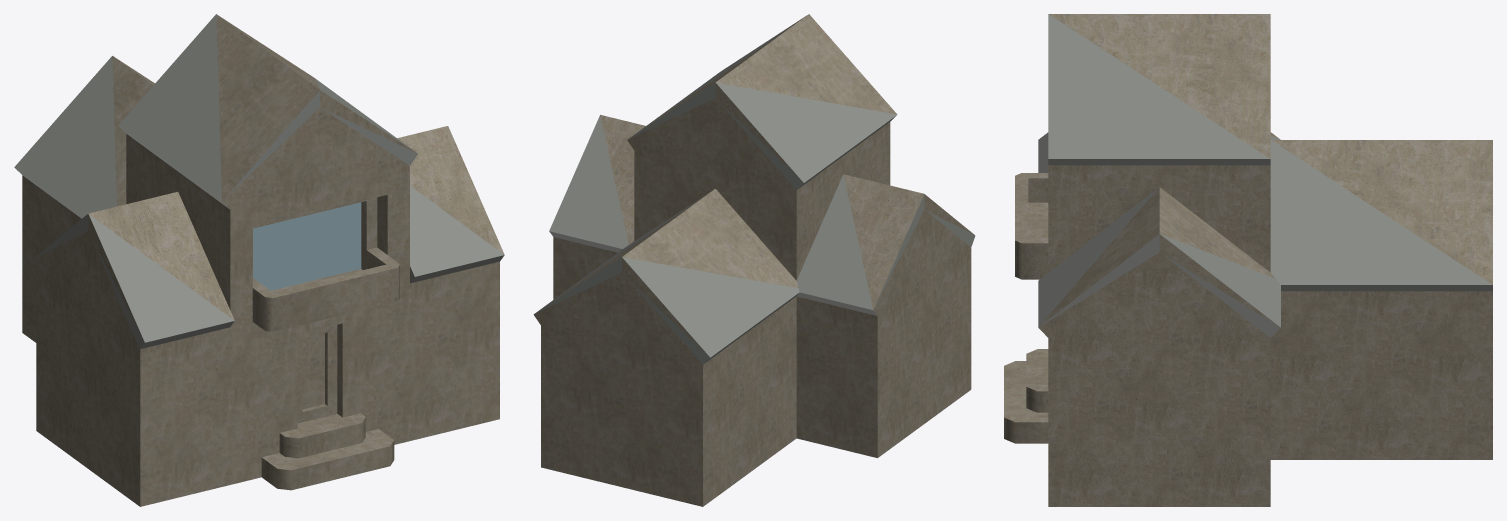
Rendered from kenney-house-c.glb.
3 views of the same model, side by side, from view 1: azimuth 30°, elevation 25°; view 2: azimuth 150°, elevation 25°; view 3: azimuth 270°, elevation 25° (orthographic). The views are drawn at different scales.
Visible parts, largest first — view 1: kenney-house-c; view 2: kenney-house-c; view 3: kenney-house-c.
Part boxes in pixels (x1,y1,x2,y2): kenney-house-c: (14,14,504,506); kenney-house-c: (533,14,975,506); kenney-house-c: (1004,14,1492,506).
Bounding box in the file's own units: 6 × 5.94 × 6.6.
3 materials, 1 textured.
